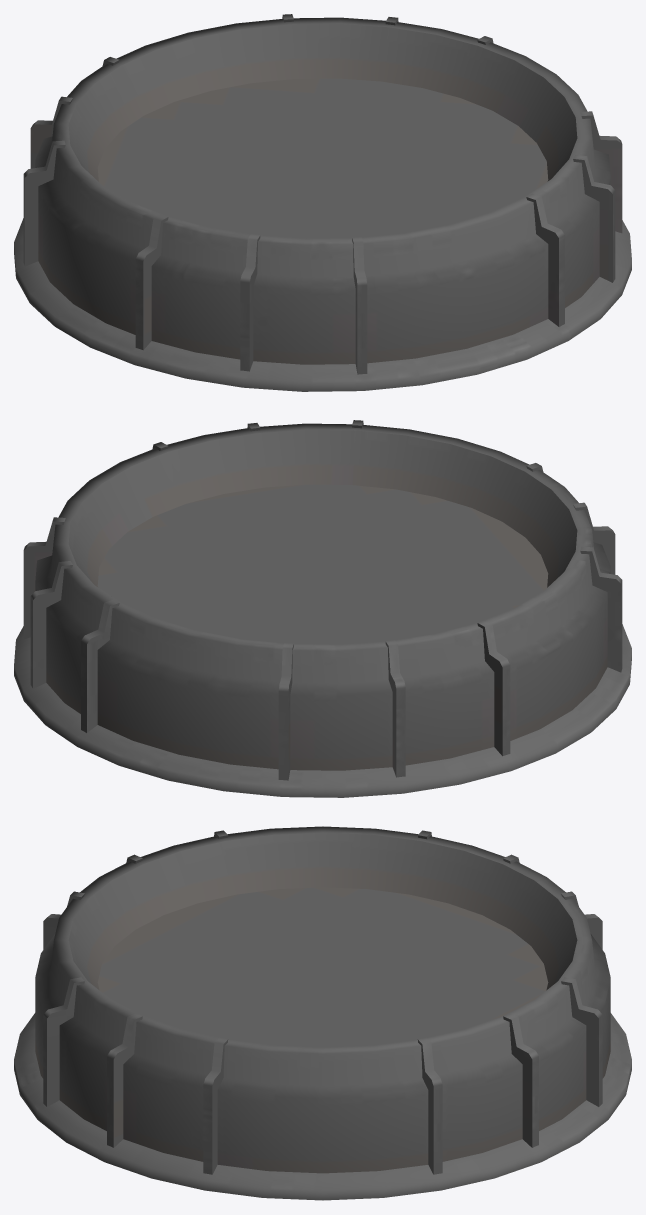
File: SM_BarelPlastic_A_04.fbx
3 views of the same model, one above another, from view 1: azimuth 30°, elevation 25°; view 2: azimuth 150°, elevation 25°; view 3: azimuth 270°, elevation 25° (orthographic).
Visible parts, largest first — view 1: SM_BarelPlastic_A_04_LOD0; view 2: SM_BarelPlastic_A_04_LOD0; view 3: SM_BarelPlastic_A_04_LOD0.
Part boxes in pixels (<box>): SM_BarelPlastic_A_04_LOD0: <box>14,14,631,391</box>; SM_BarelPlastic_A_04_LOD0: <box>14,420,631,797</box>; SM_BarelPlastic_A_04_LOD0: <box>14,826,631,1200</box>.
Bounding box in the file's own units: 59.75 × 59.75 × 14.15.
